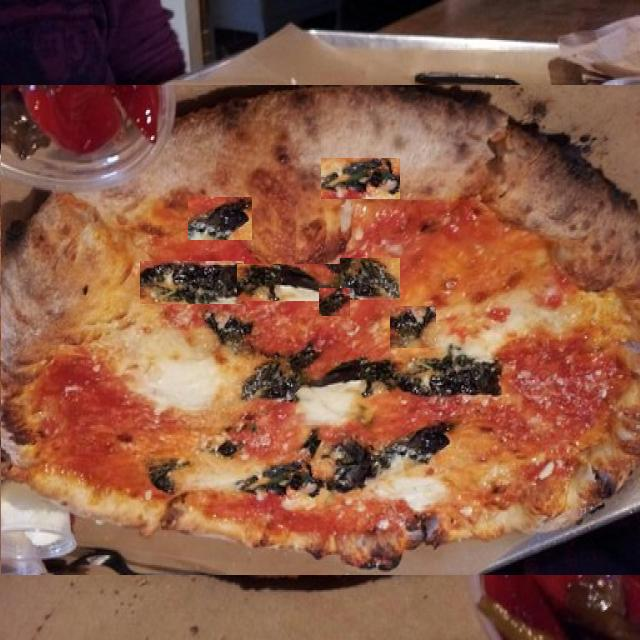basil: (252, 167, 337, 231), (140, 261, 244, 304), (237, 264, 343, 301), (321, 158, 400, 199), (188, 197, 252, 240), (340, 258, 400, 300), (390, 306, 436, 348), (449, 164, 492, 200), (319, 288, 352, 316), (395, 200, 425, 219)
pizza: (1, 85, 640, 575)
